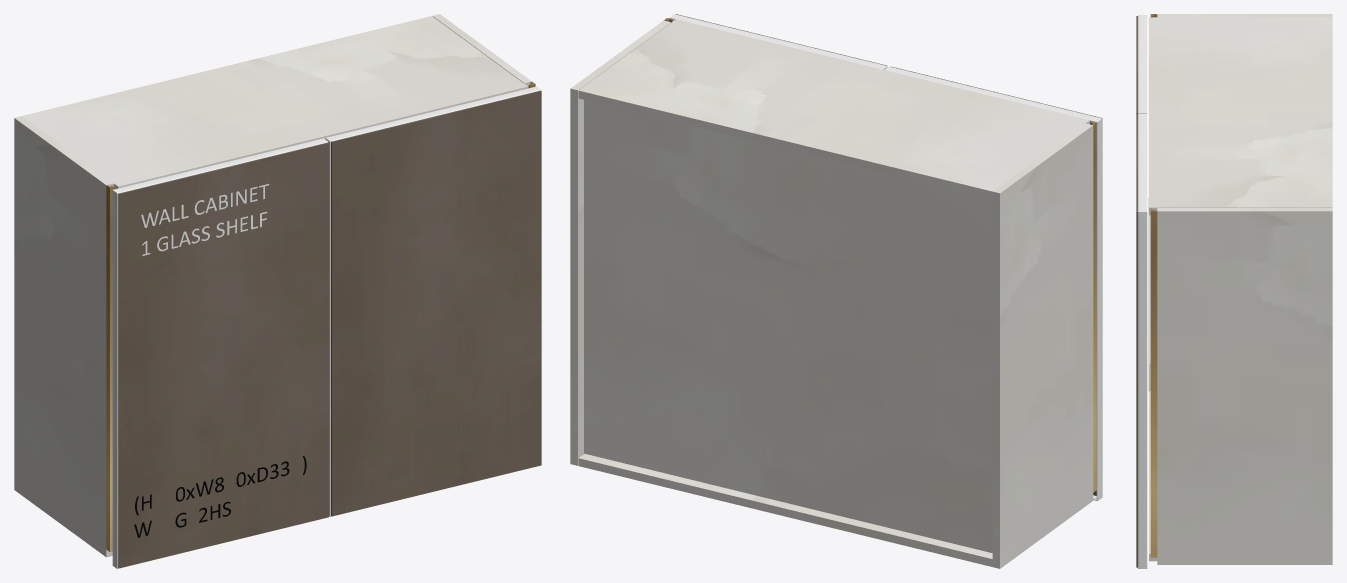
3 renders of one model, left to right at view 1: azimuth 30°, elevation 25°; view 2: azimuth 150°, elevation 25°; view 3: azimuth 270°, elevation 25°, orthographic. The views are drawn at different scales.
Size of what is drawn, in the model's own units: 0.85 by 0.7185 by 0.366.
Materials: 7 (3 with a texture image).
